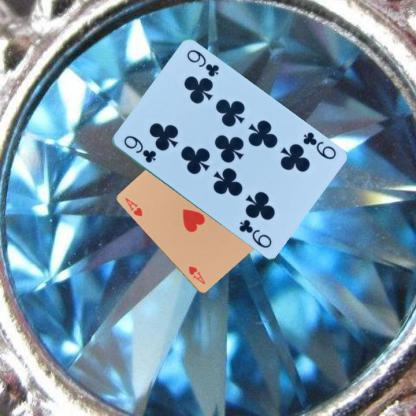9c: (300, 128, 338, 162), (120, 133, 157, 165)
Ah: (122, 195, 144, 218)
